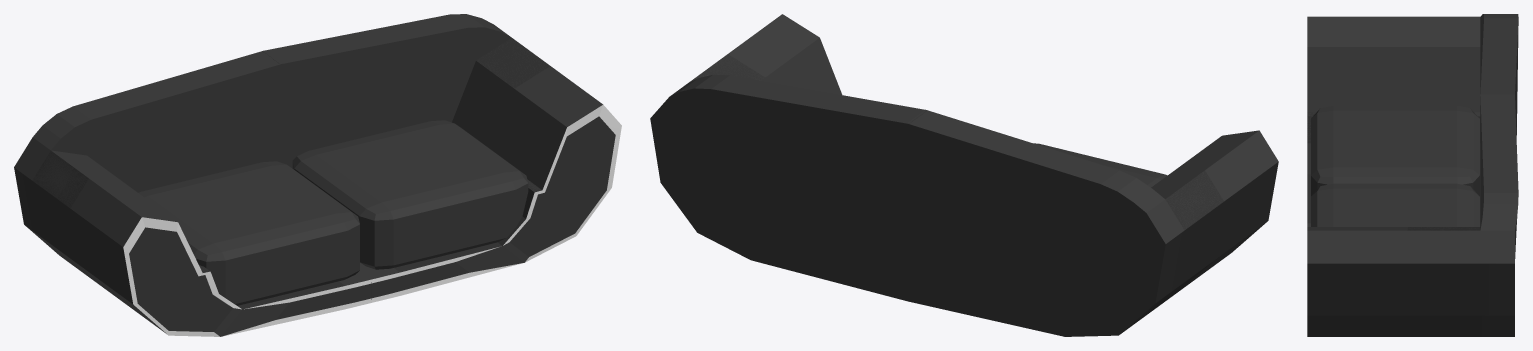
The model's file is futuristic.canapea.glb.
The picture shows the model from 3 angles, left to right: view 1: azimuth 30°, elevation 25°; view 2: azimuth 150°, elevation 25°; view 3: azimuth 270°, elevation 25°; orthographic projection. The views are drawn at different scales.
Parts seen in each view (by area): view 1: Cube.002; view 2: Cube.002; view 3: Cube.002.
Part boxes in pixels (x1,y1,x2,y2): Cube.002: (14, 14, 621, 336); Cube.002: (650, 14, 1278, 336); Cube.002: (1307, 14, 1518, 336).
Size of the model in its own units: 8.11 by 2.67 by 3.13.
1 material, 1 textured.
